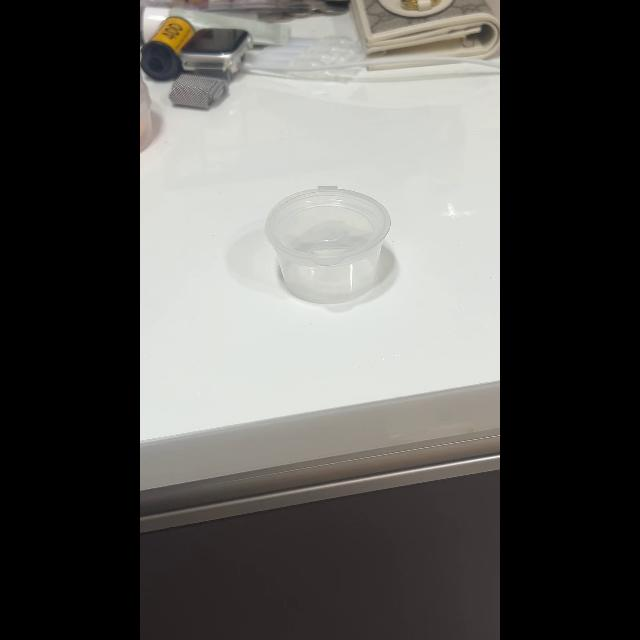clean: (265, 174, 397, 306)
